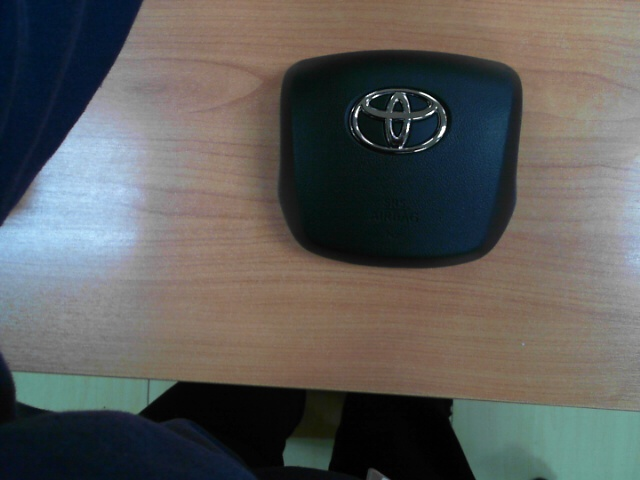AirbagV2: (280, 50, 518, 266)
